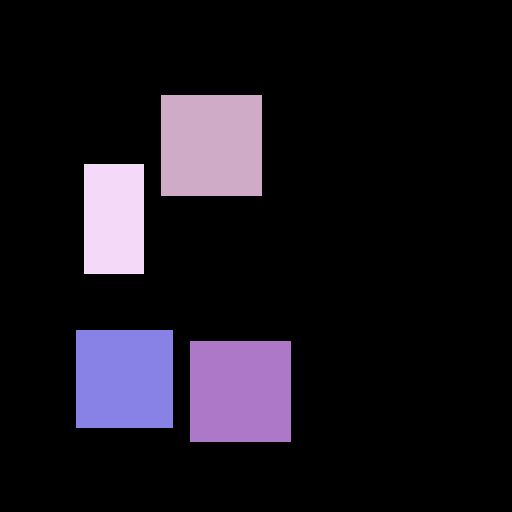rectangle: (84, 164, 143, 273)
square: (190, 341, 290, 441), (161, 95, 261, 195), (76, 330, 172, 427)
